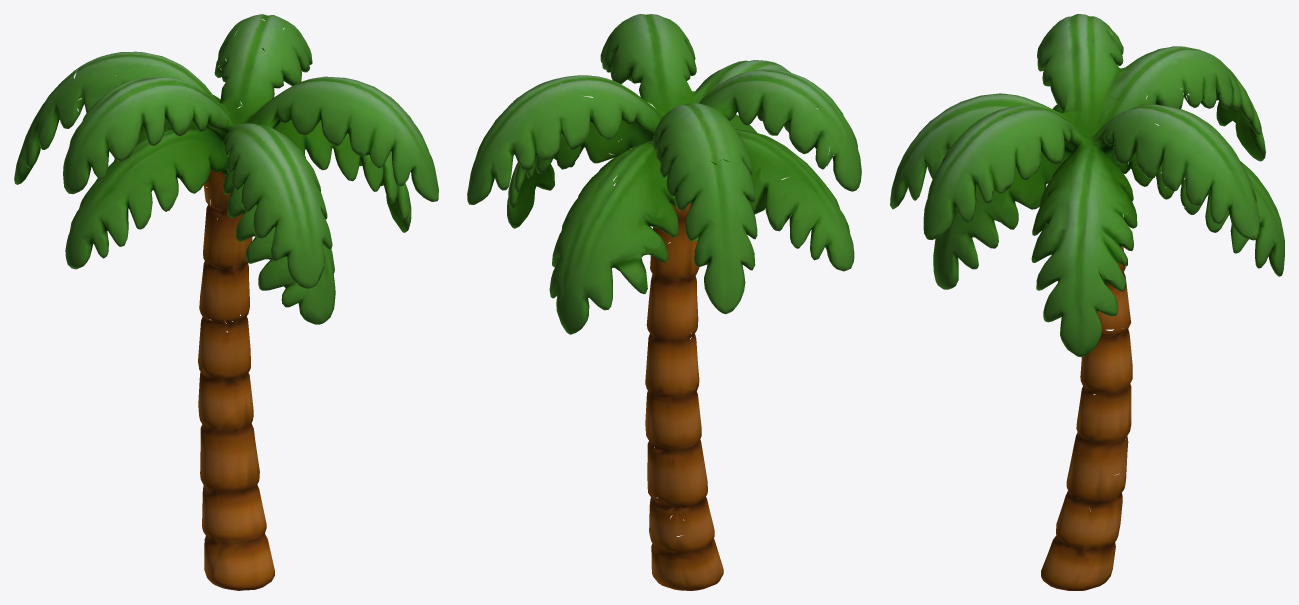
File: plastic_palm.glb
3 renders of one model, left to right at view 1: azimuth 30°, elevation 25°; view 2: azimuth 150°, elevation 25°; view 3: azimuth 270°, elevation 25°, orthographic. The views are drawn at different scales.
Parts seen in each view (by area): view 1: Object_5; view 2: Object_5; view 3: Object_5.
Part boxes in pixels (x1,y1,x2,y2): Object_5: [14, 14, 438, 590]; Object_5: [467, 14, 861, 590]; Object_5: [890, 14, 1284, 590].
Size of the model in its own units: 2.46 by 3.59 by 2.5.
Materials: 1 (1 with a texture image).
